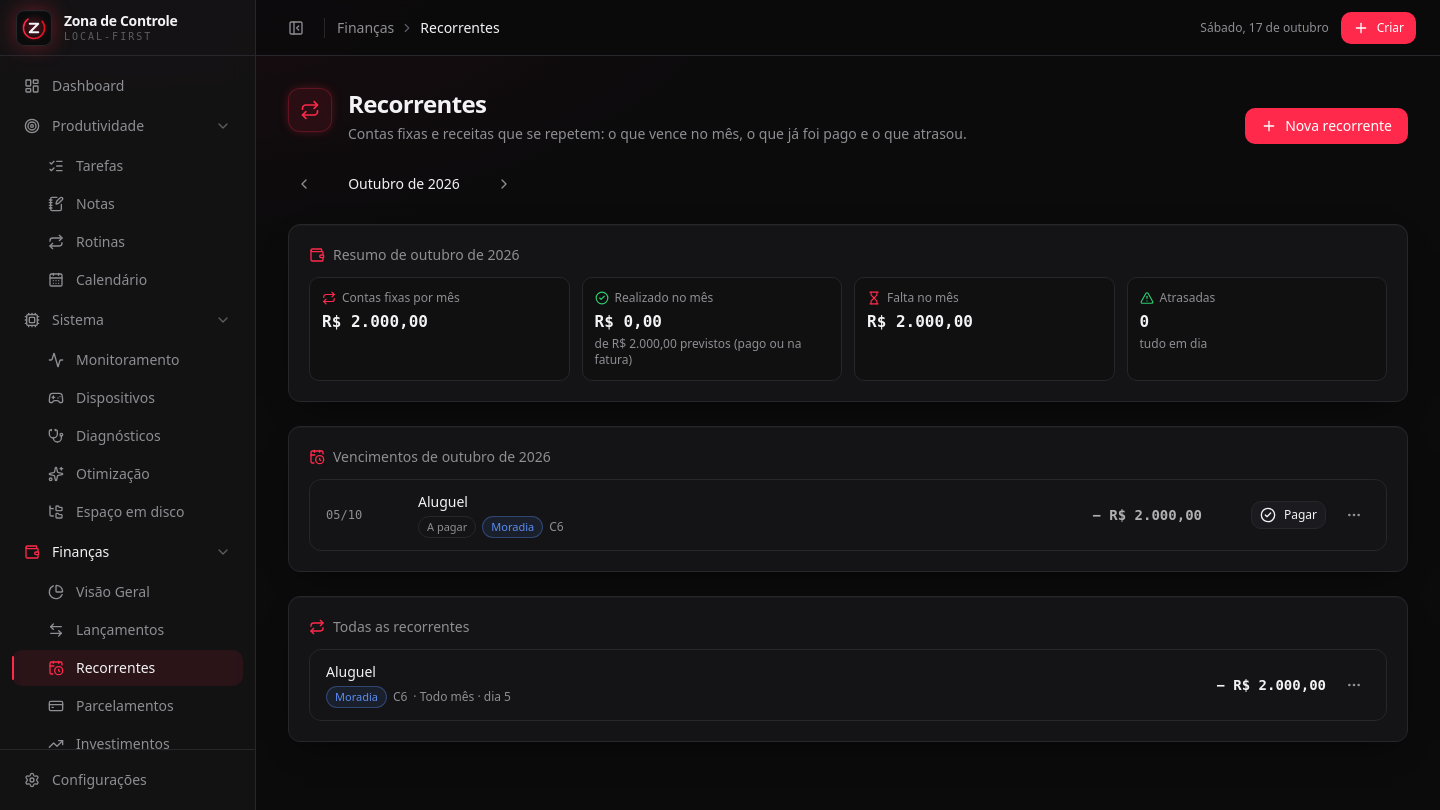
Test: página de Recorrentes › vincula um vencimento a um lançamento que já existia
The image size is (1440, 810).
Click the button named "Ações do vencimento “Aluguel”": coordinates (1354, 515) [1338, 499, 1370, 531]
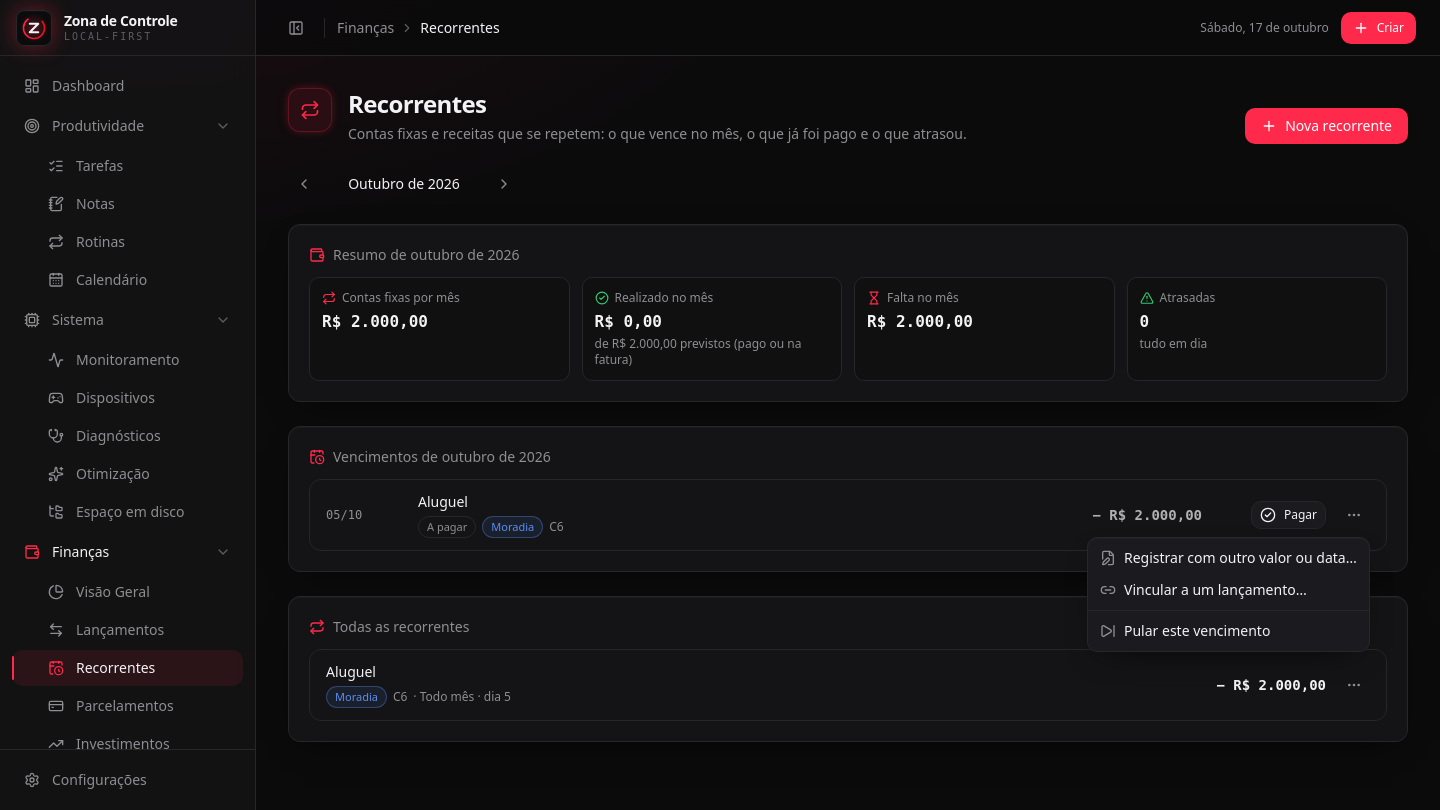
Click the menu item "Vincular a um lançamento…": coordinates (1203, 590) [1100, 580, 1307, 599]
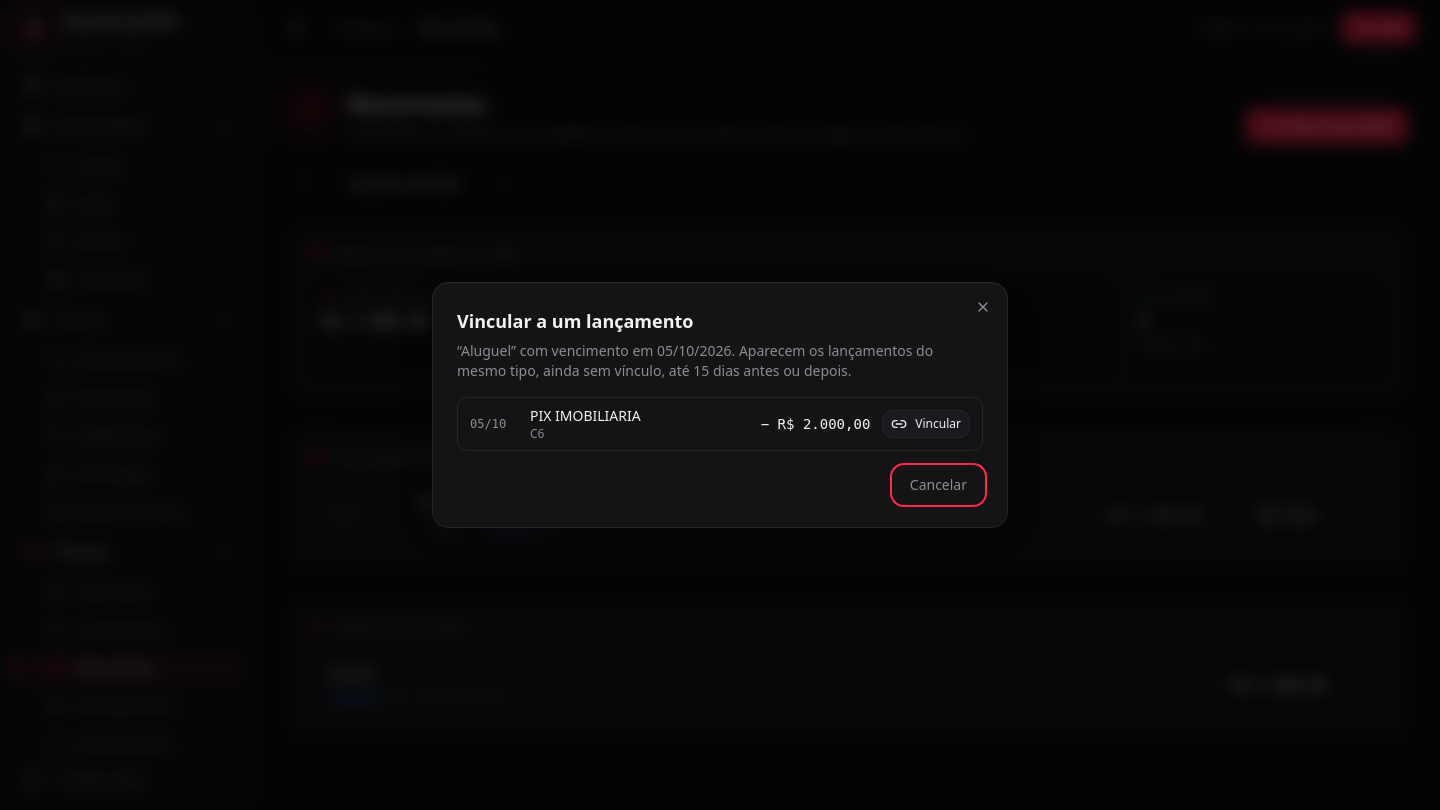
Click the button with aria-label "Vincular “PIX IMOBILIARIA”": coordinates (926, 424) [882, 410, 970, 438]
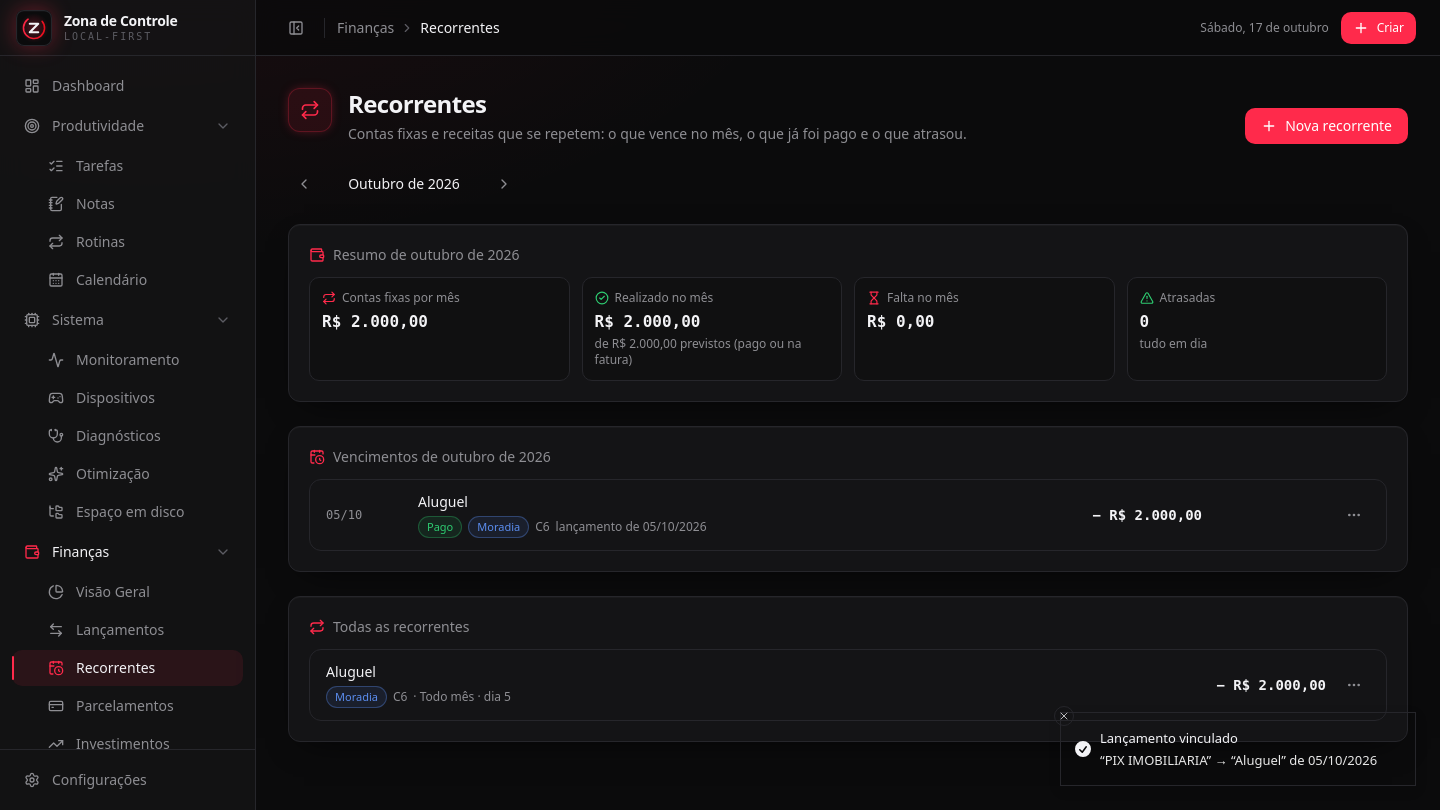
Result: the text "Pago" is shown at [418, 516, 462, 538]
Result: the dialog is gone
